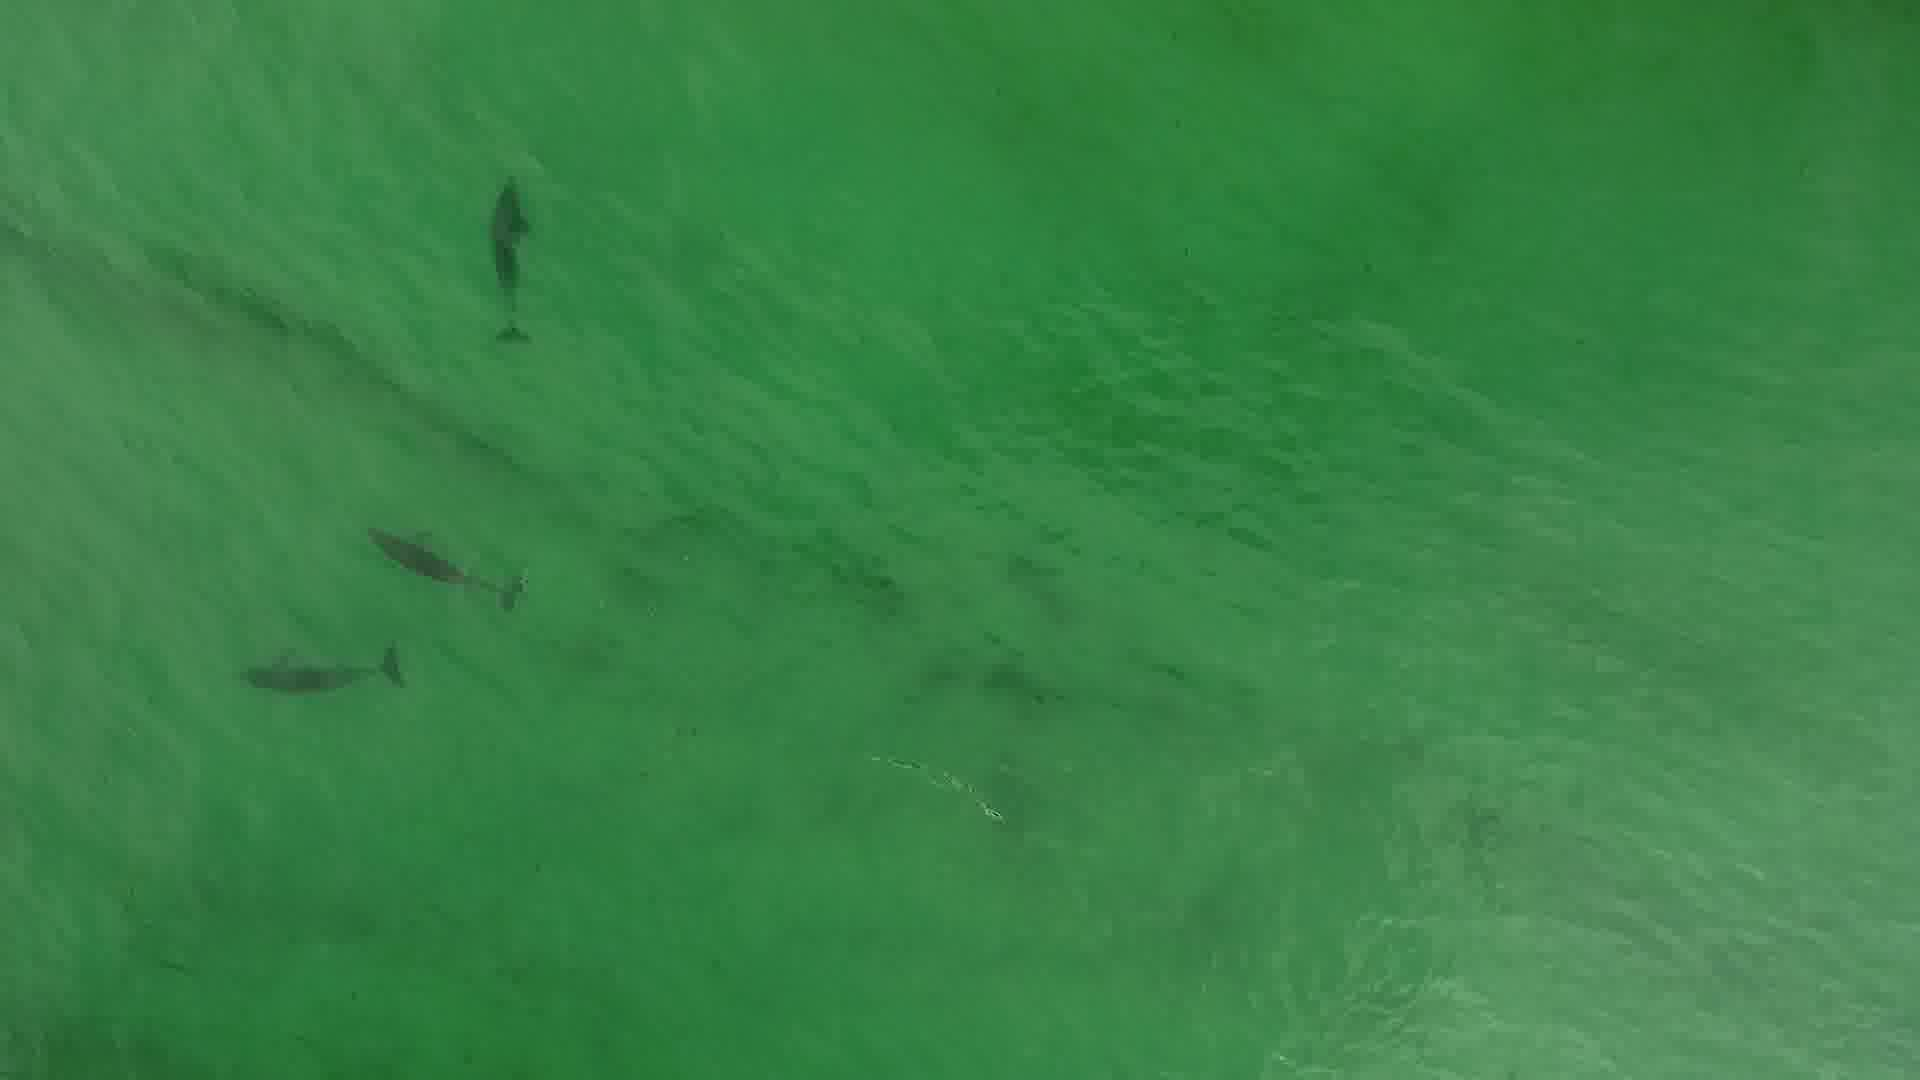dolphin: (356, 487, 530, 618), (458, 148, 546, 355), (232, 609, 406, 713)
